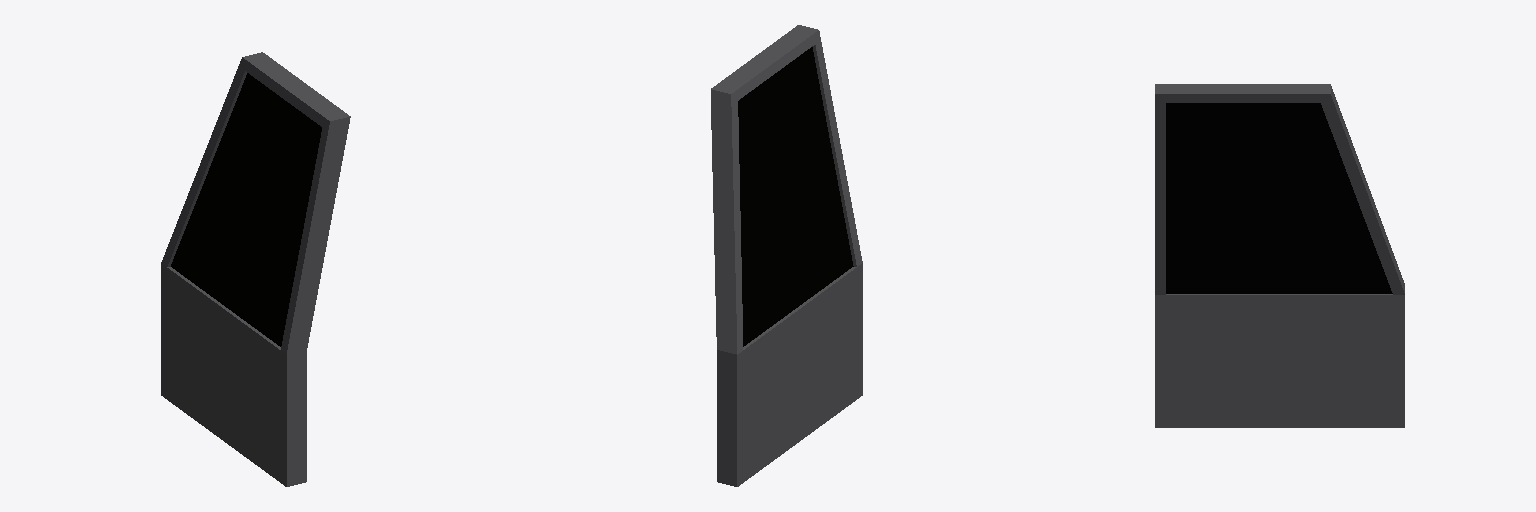
Rendered from DoorA.obj.
3 views of the same model, side by side, from view 1: azimuth 30°, elevation 25°; view 2: azimuth 150°, elevation 25°; view 3: azimuth 270°, elevation 25° (orthographic).
Visible parts, largest first — view 1: Door1, Glass1; view 2: Door1, Glass1; view 3: Door1, Glass1.
Boxes of the visible parts, x1=… form: Door1: x1=161, y1=52, x2=350, y2=486; Glass1: x1=171, y1=73, x2=321, y2=346; Door1: x1=711, y1=25, x2=862, y2=486; Glass1: x1=738, y1=47, x2=853, y2=346; Door1: x1=1155, y1=84, x2=1404, y2=427; Glass1: x1=1166, y1=103, x2=1392, y2=293.
Bounding box in the file's own units: 0.9019 × 4.76 × 3.05.